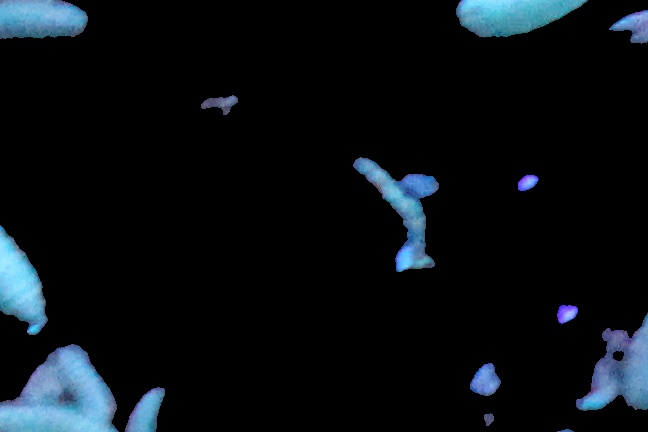larvae: (453, 1, 590, 41), (1, 218, 49, 331), (53, 345, 117, 416), (1, 399, 116, 432), (1, 1, 86, 42)
